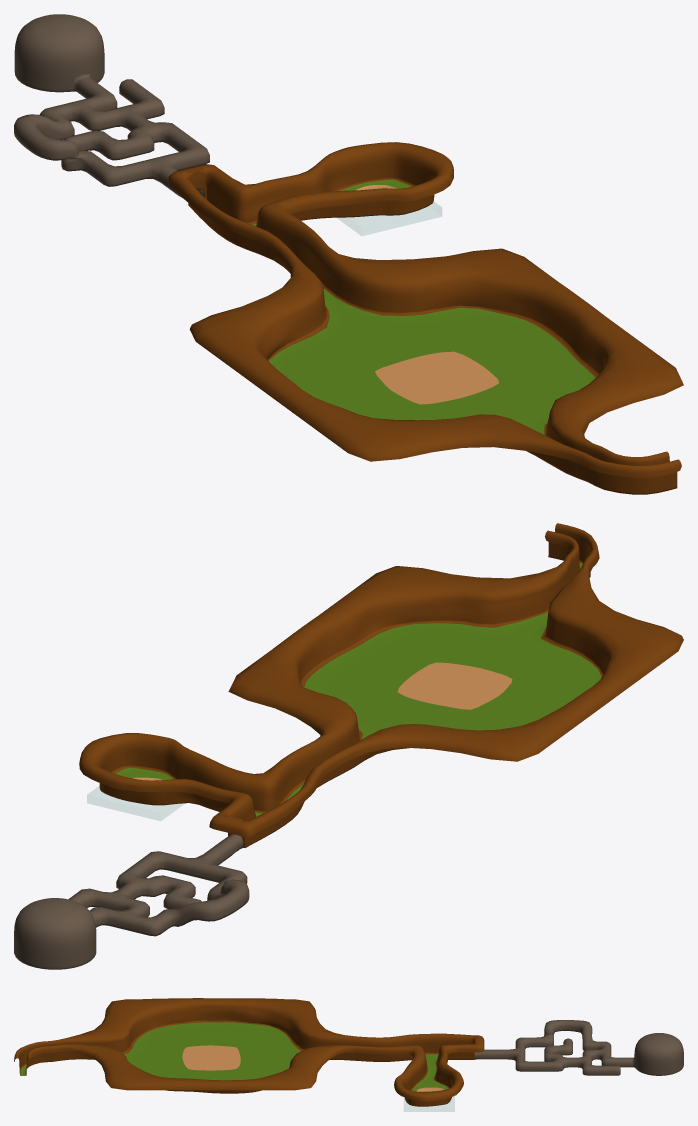
The model's file is Map Final 3.fbx.
The picture shows the model from 3 angles, top to bottom: view 1: azimuth 30°, elevation 25°; view 2: azimuth 150°, elevation 25°; view 3: azimuth 270°, elevation 25°; orthographic projection. The views are drawn at different scales.
Visible parts, largest first — view 1: Terrain, Water; view 2: Terrain, Water; view 3: Terrain, Water.
Boxes of the visible parts, <box> form: Terrain: <box>14,14,683,494</box>; Water: <box>338,202,441,235</box>; Terrain: <box>14,523,683,969</box>; Water: <box>87,787,183,820</box>; Terrain: <box>14,998,683,1106</box>; Water: <box>404,1096,454,1111</box>.
Bounding box in the file's own units: 21108 × 3354 × 59678.
